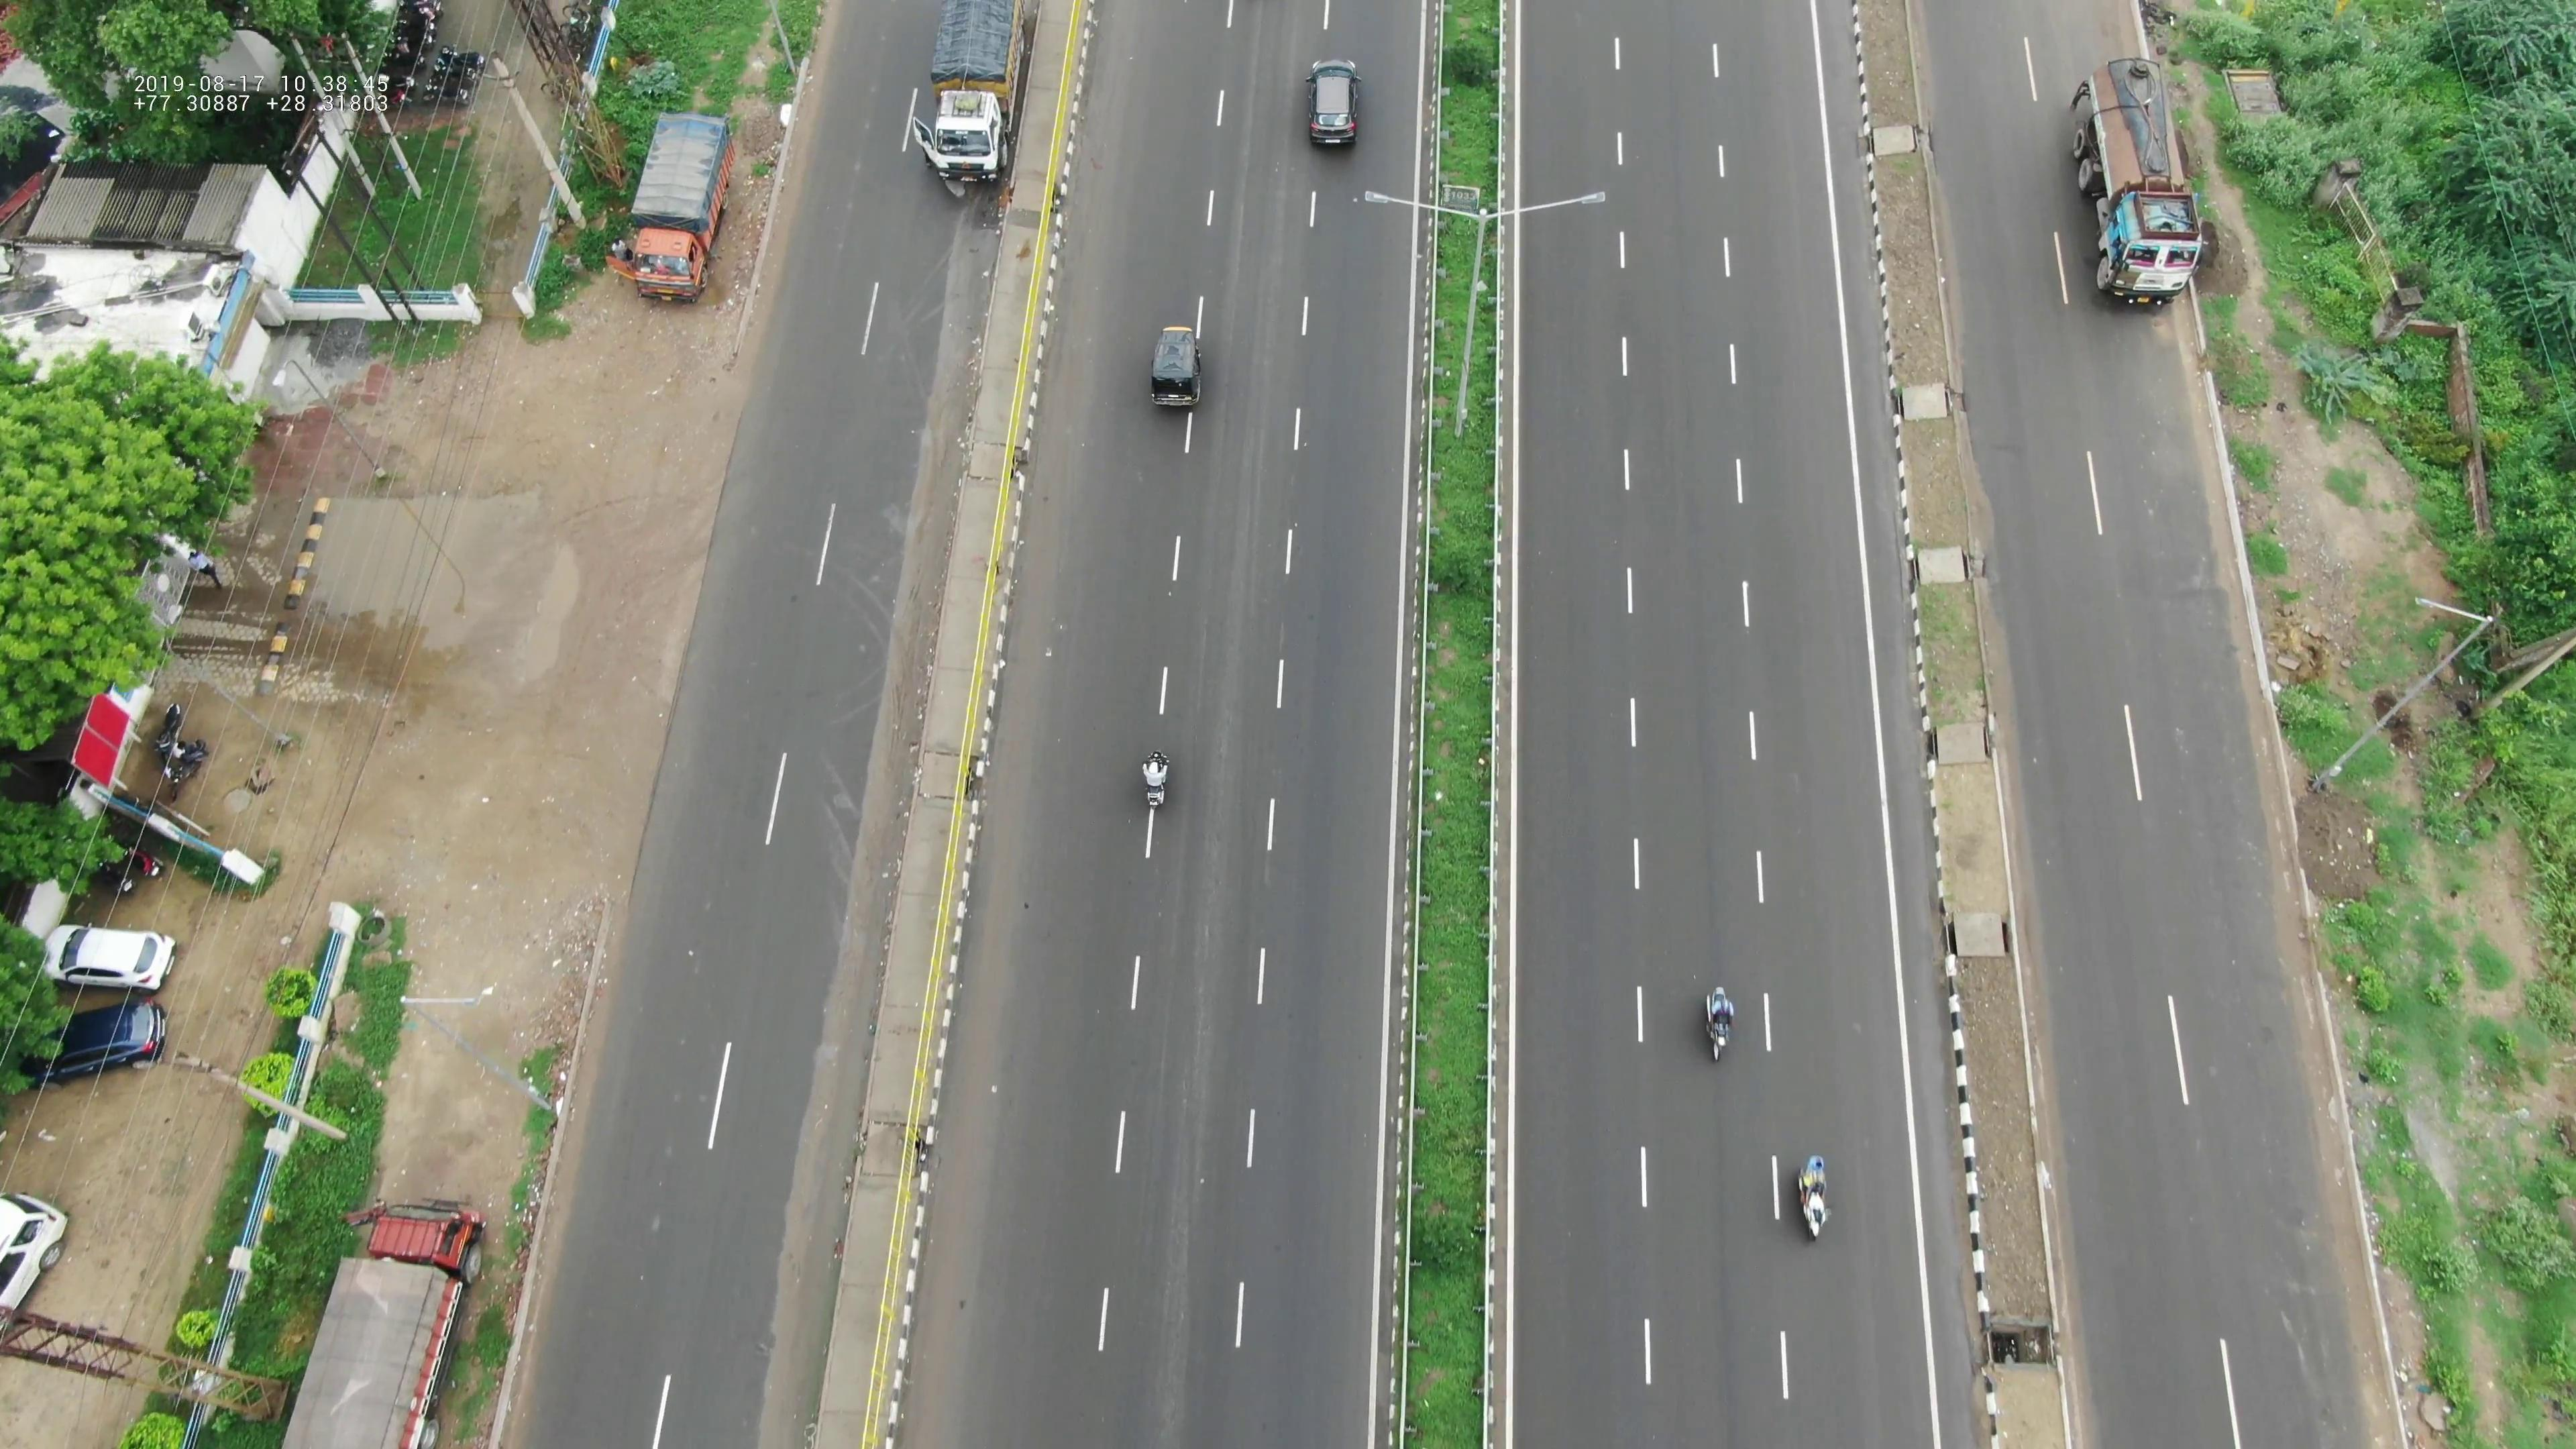Potholes: (874, 248, 945, 419), (821, 492, 902, 617), (803, 717, 860, 862)
